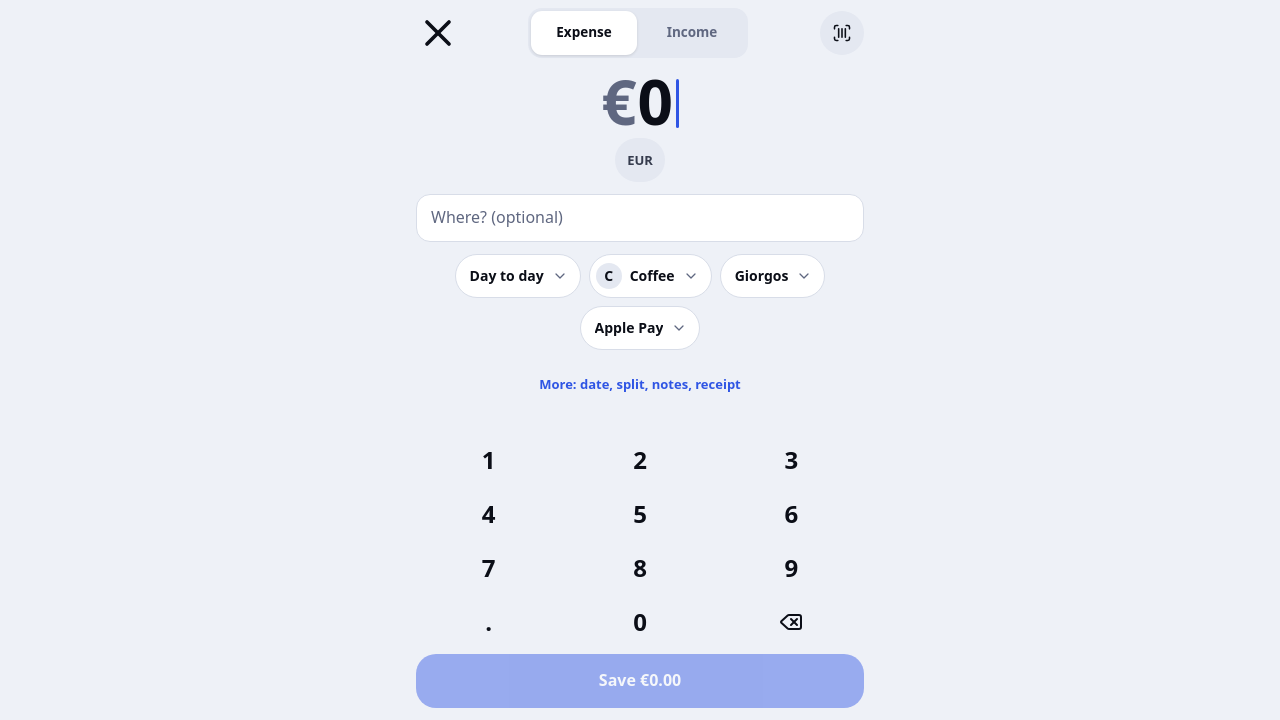
the currency is in More only, unless a foreign entry or a recent foreign entry is in play
The width and height of the screenshot is (1280, 720).
Click the button with aria-label "More options" at (640, 384), box [527,362,753,406]
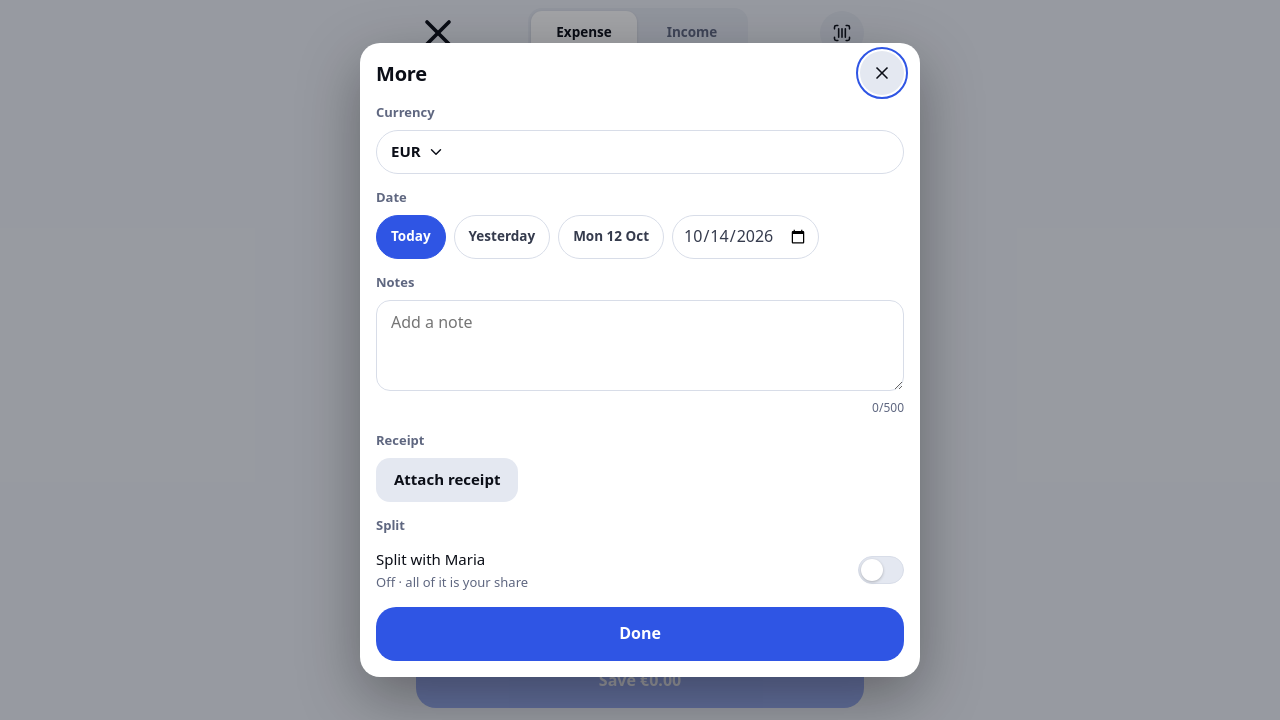
Expected: the button with aria-label "Currency: EUR. Change" is shown, [376,130,904,174]
